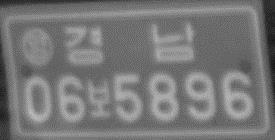0: (23, 75, 51, 124)
5: (113, 72, 143, 123)
6: (222, 70, 254, 122), (57, 73, 86, 124)
8: (148, 72, 180, 124)
9: (183, 71, 217, 122)
경남_D: (63, 18, 198, 66)
보: (85, 77, 111, 120)
영: (20, 25, 56, 66)
